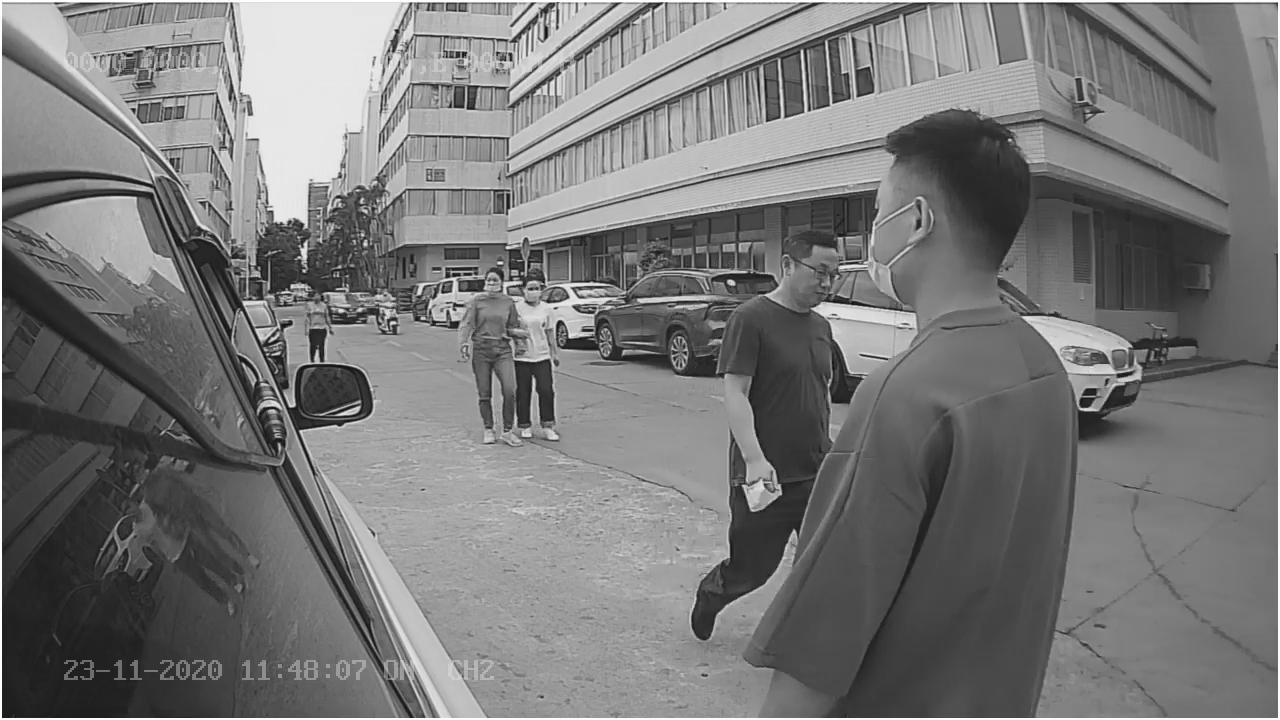person: (452, 254, 525, 449)
